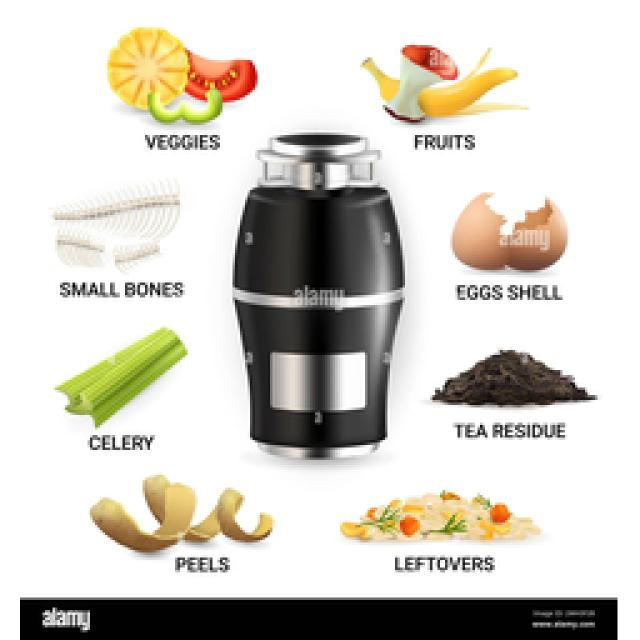food_waste: (90, 475, 272, 550), (108, 28, 252, 120), (60, 328, 185, 428), (360, 45, 525, 120), (52, 180, 178, 278), (340, 490, 538, 538), (452, 192, 565, 270), (145, 135, 218, 148), (122, 280, 182, 295), (90, 435, 148, 448), (60, 280, 115, 292)
